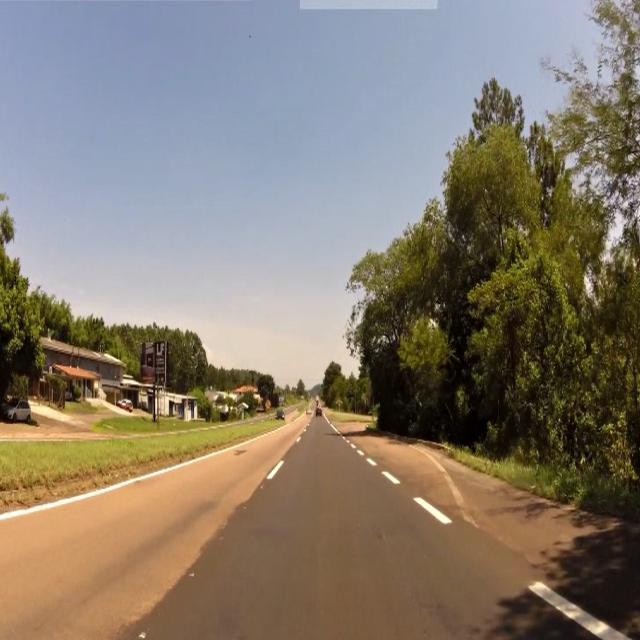R-5a: (264, 400, 272, 410)
